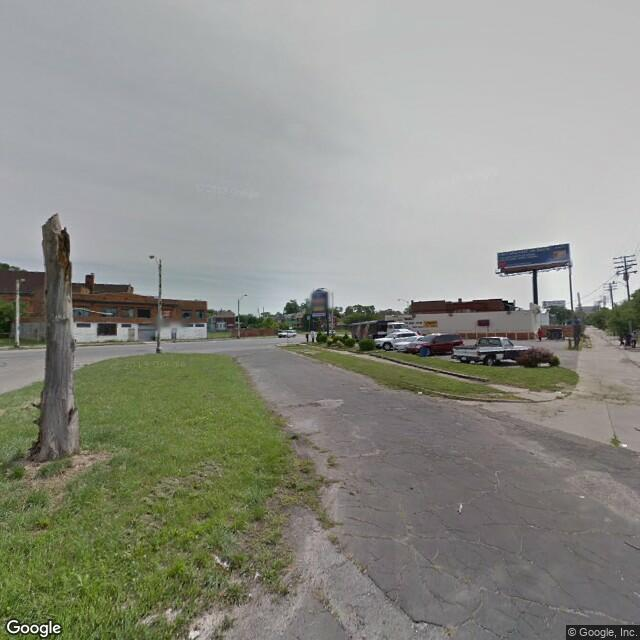litter: (614, 438, 632, 456), (414, 385, 425, 395)
